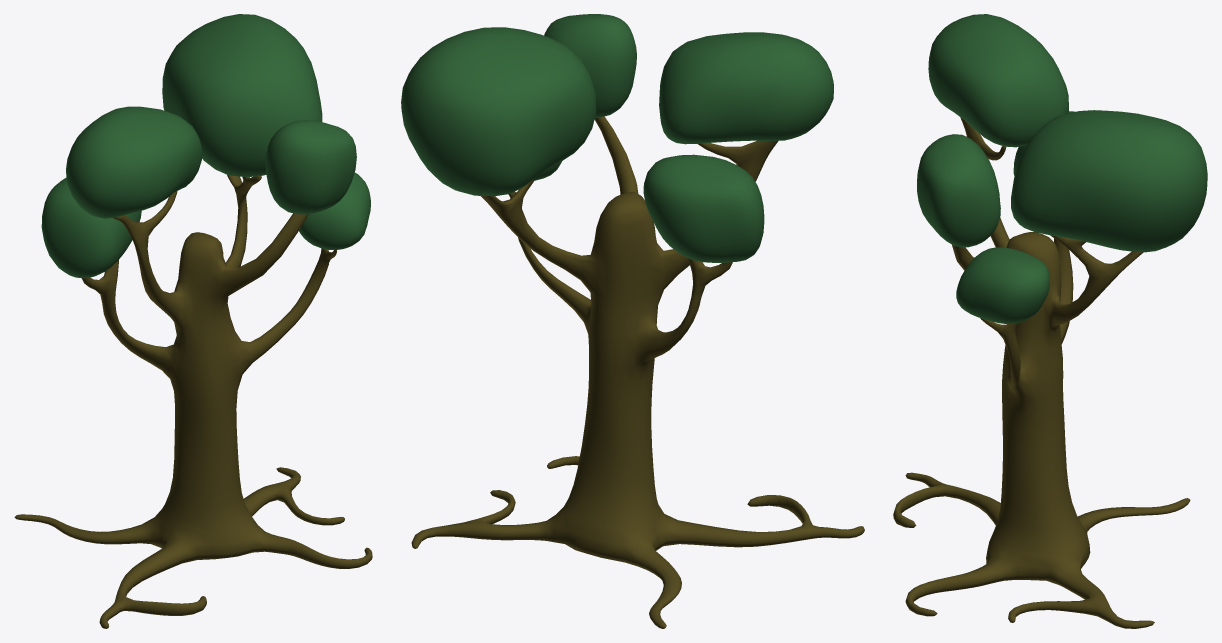
File: agac.fbx
3 views of the same model, side by side, from view 1: azimuth 30°, elevation 25°; view 2: azimuth 150°, elevation 25°; view 3: azimuth 270°, elevation 25° (orthographic). The views are drawn at different scales.
Parts seen in each view (by area): view 1: yesil.004; view 2: yesil.004; view 3: yesil.004.
Boxes of the visible parts, <box> form: yesil.004: <box>14,14,372,628</box>; yesil.004: <box>401,14,864,628</box>; yesil.004: <box>893,14,1207,628</box>.
Bounding box in the file's own units: 288 × 412 × 242.
